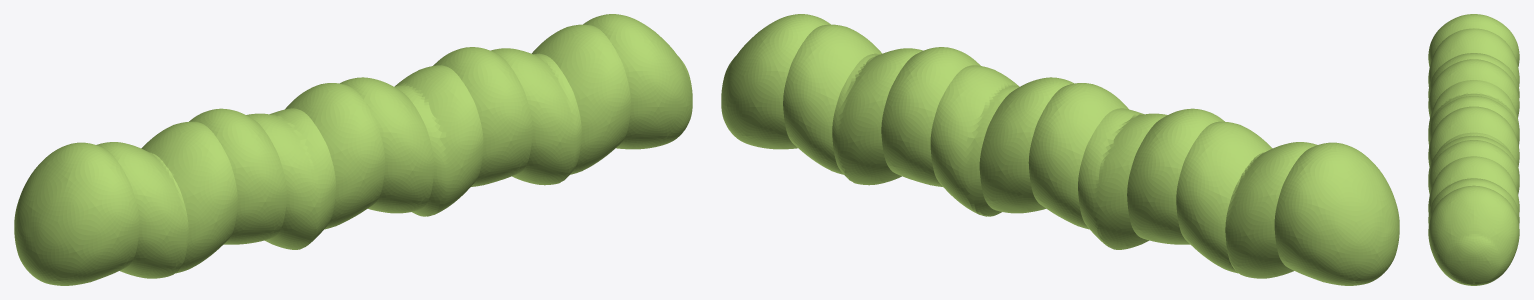
Rendered from worm.fbx.
3 views of the same model, side by side, from view 1: azimuth 30°, elevation 25°; view 2: azimuth 150°, elevation 25°; view 3: azimuth 270°, elevation 25° (orthographic). The views are drawn at different scales.
Visible parts, largest first — view 1: Icosphere; view 2: Icosphere; view 3: Icosphere.
Part boxes in pixels (<box>): Icosphere: <box>14,14,692,285</box>; Icosphere: <box>721,14,1399,285</box>; Icosphere: <box>1428,14,1519,285</box>.
Size of the model in its own units: 198 by 41.62 by 35.9.
